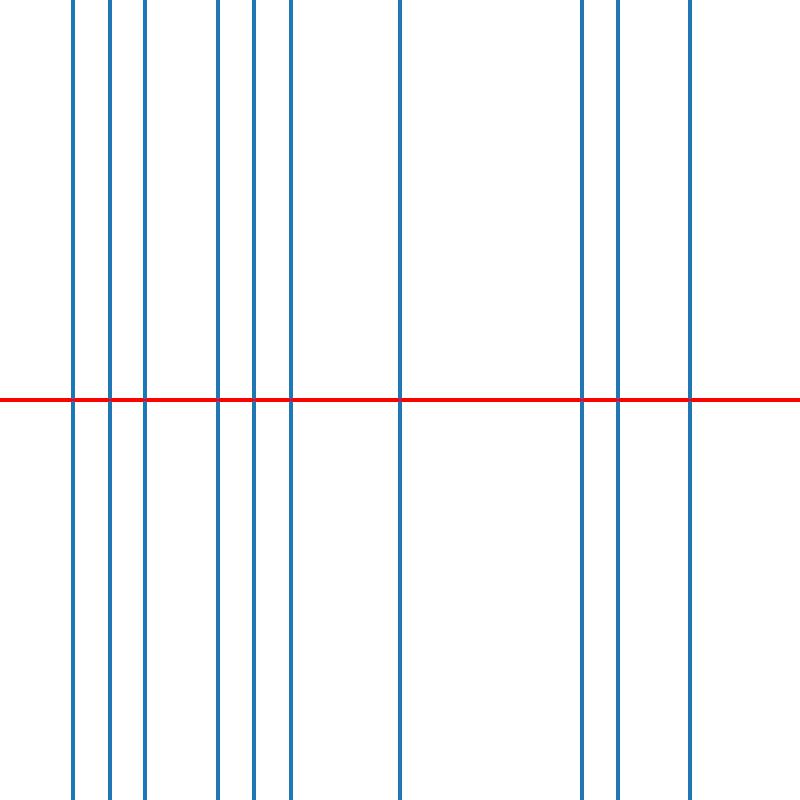root: (141, 396, 149, 404), (250, 396, 258, 404), (105, 396, 112, 404), (614, 396, 621, 404), (687, 396, 694, 404), (578, 396, 585, 404), (69, 396, 76, 404), (396, 396, 403, 404), (214, 396, 221, 404), (287, 396, 294, 404)
